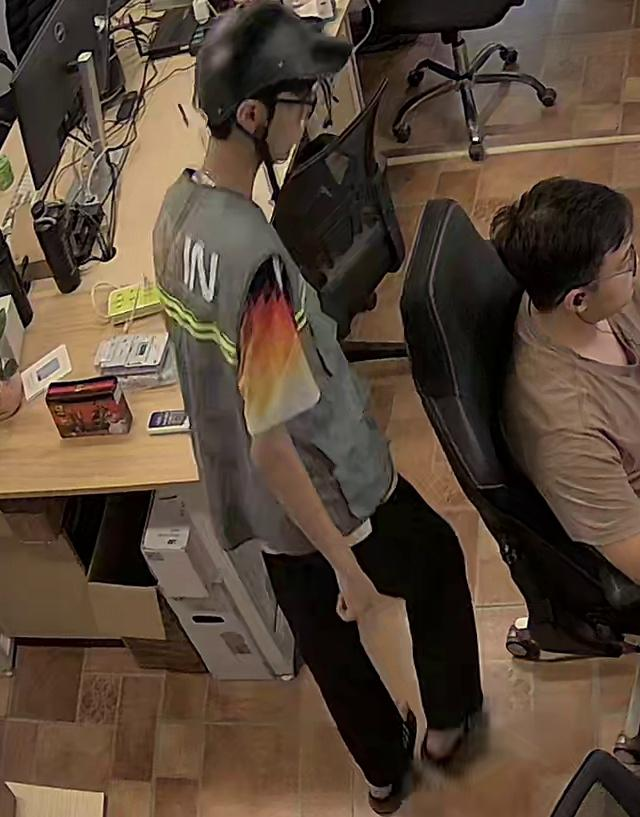helmet: (195, 2, 350, 127)
no_helmet: (491, 176, 630, 311)
none: (503, 292, 635, 550)
vest: (151, 170, 387, 553)
